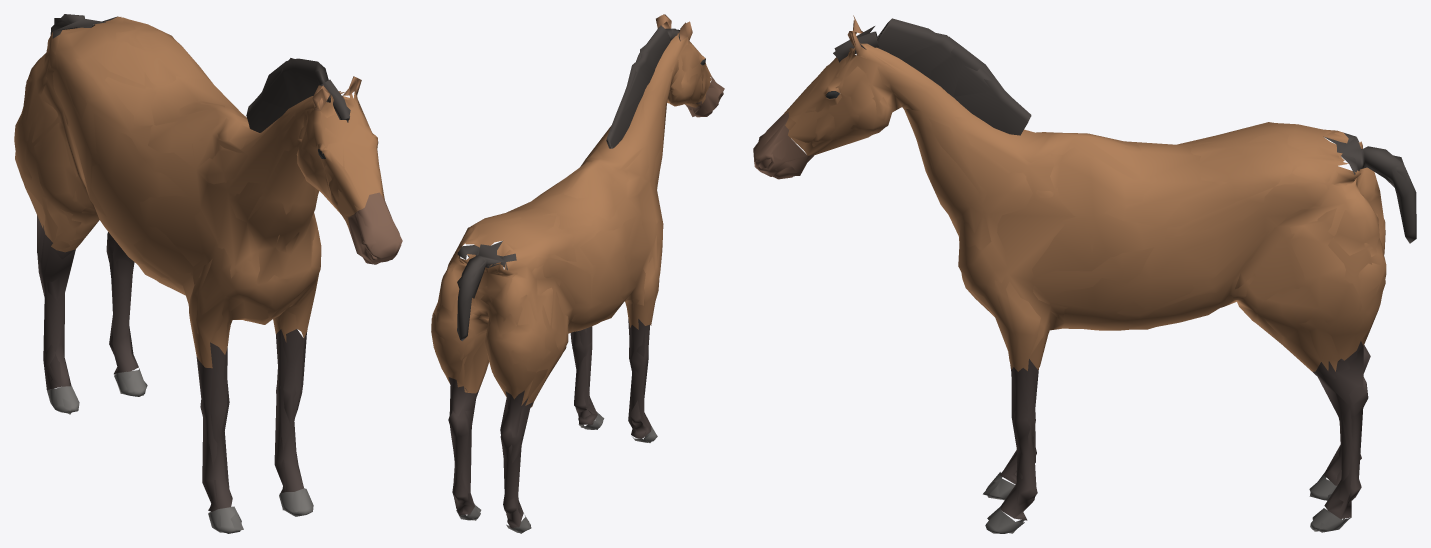
The model's file is horse.glb.
The picture shows the model from 3 angles, left to right: view 1: azimuth 30°, elevation 25°; view 2: azimuth 150°, elevation 25°; view 3: azimuth 270°, elevation 25°; orthographic projection. The views are drawn at different scales.
Visible parts, largest first — view 1: animal_horse (×2); view 2: animal_horse (×2); view 3: animal_horse (×2).
Part boxes in pixels (x1,y1,x2,y2): animal_horse (×2): [14, 14, 402, 533]; animal_horse (×2): [431, 14, 724, 533]; animal_horse (×2): [753, 15, 1416, 533].
Bounding box in the file's own units: 0.6246 × 2.08 × 2.53.
